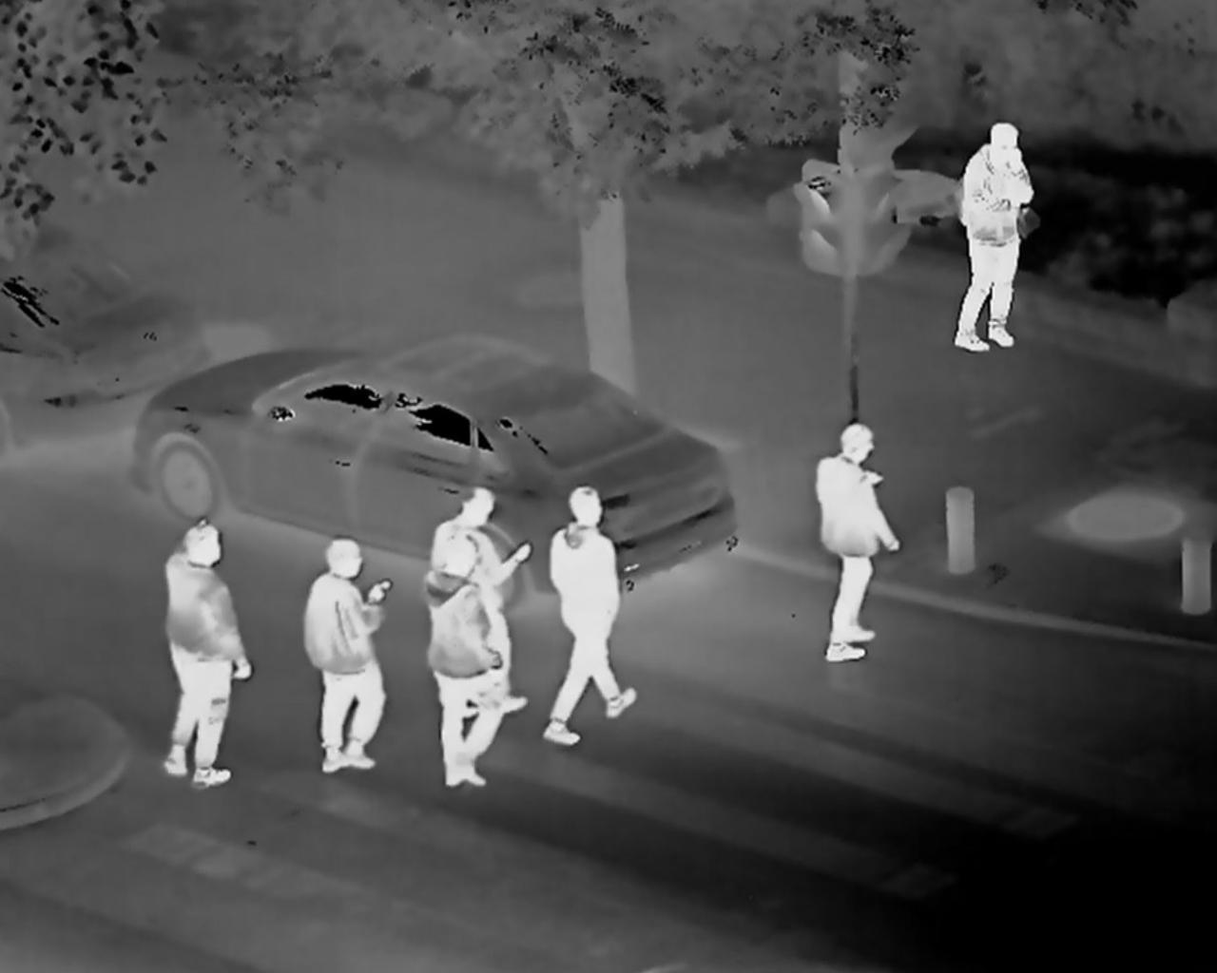person: (135, 505, 274, 805), (538, 486, 638, 741), (297, 515, 395, 774), (427, 469, 528, 717), (421, 537, 517, 789), (939, 117, 1032, 358), (798, 417, 882, 666)
